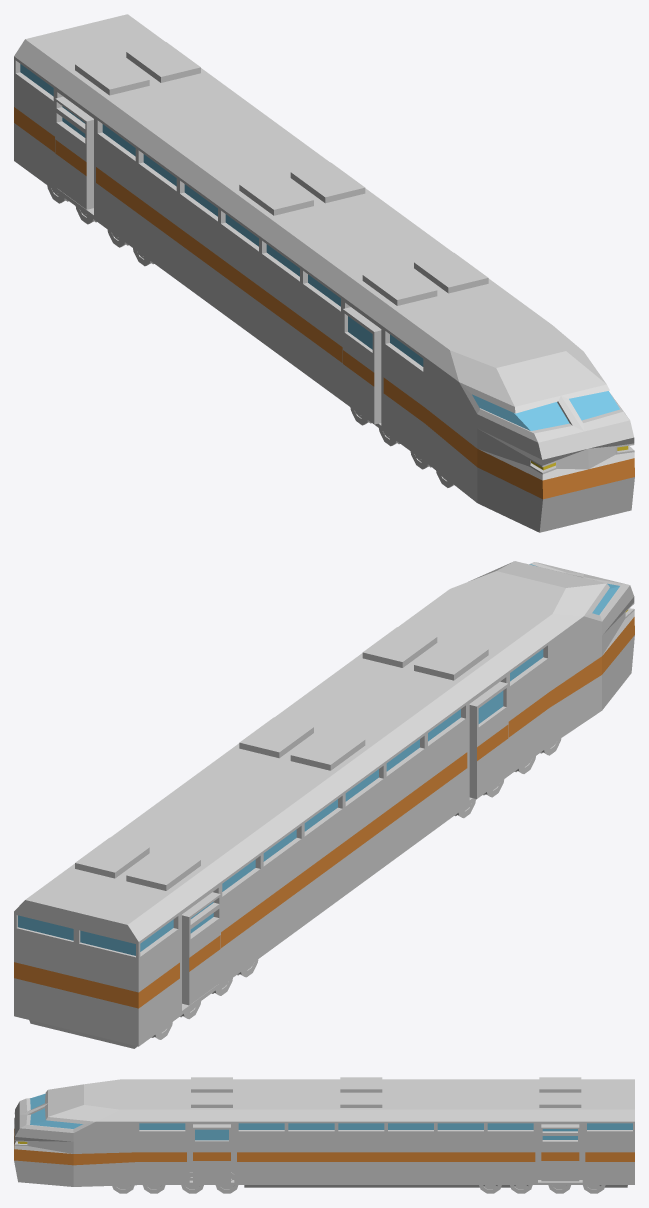
File: train.fbx
3 renders of one model, top to bottom at view 1: azimuth 30°, elevation 25°; view 2: azimuth 150°, elevation 25°; view 3: azimuth 270°, elevation 25°, orthographic. The views are drawn at different scales.
Visible parts, largest first — view 1: Cube; view 2: Cube; view 3: Cube.
Boxes of the visible parts, x1,y1,x2,y2 form: Cube: [14, 14, 634, 532]; Cube: [14, 561, 634, 1048]; Cube: [14, 1077, 634, 1193].
Size of the model in its own units: 215 by 219 by 1423.
